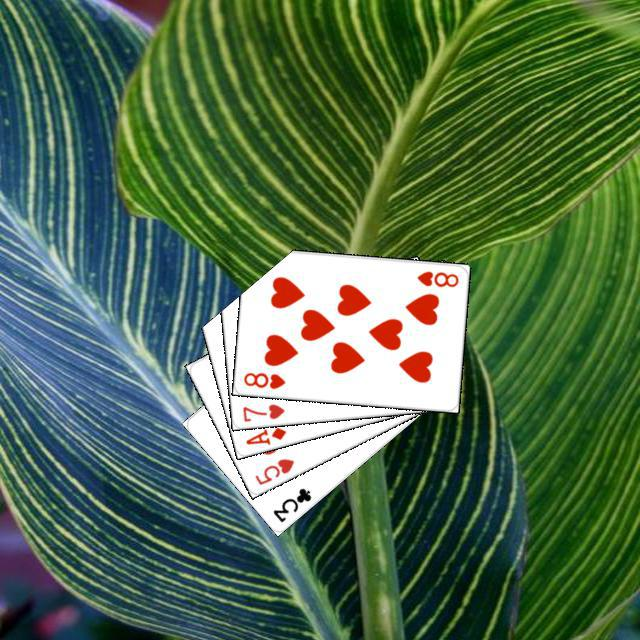3c: (268, 483, 313, 524)
5h: (250, 453, 296, 487)
7h: (238, 399, 286, 423)
8h: (238, 367, 287, 390), (412, 266, 460, 289)
Ad: (240, 422, 288, 446)
